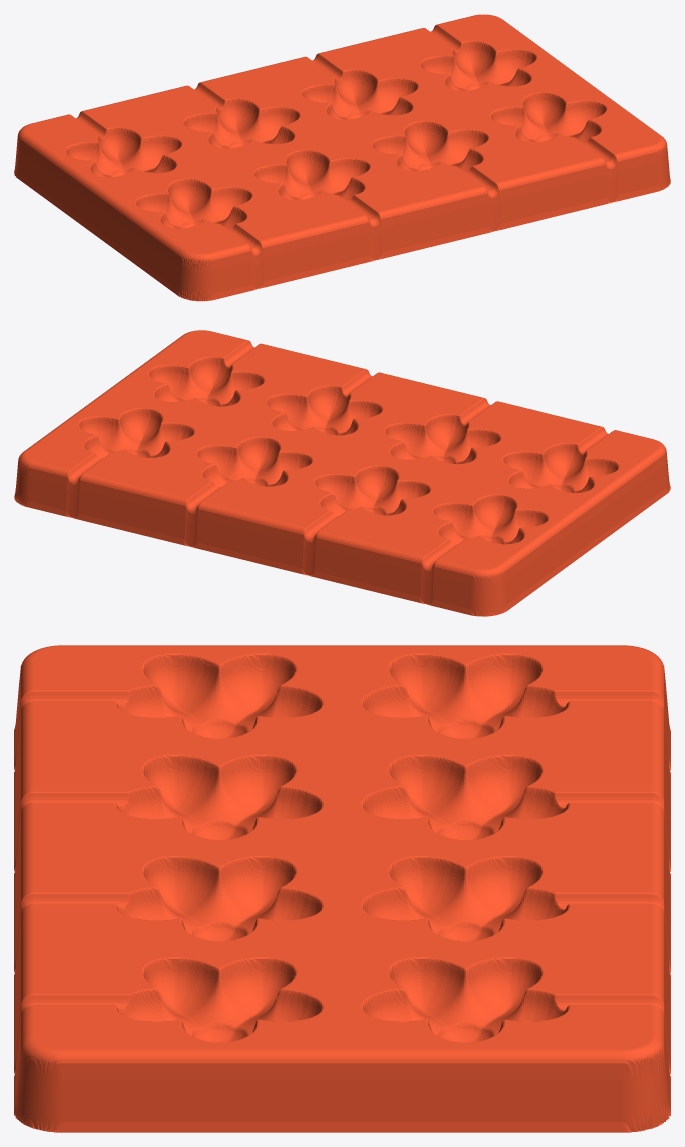
File: mold.glb
3 renders of one model, top to bottom at view 1: azimuth 30°, elevation 25°; view 2: azimuth 150°, elevation 25°; view 3: azimuth 270°, elevation 25°, orthographic. The views are drawn at different scales.
Visible parts, largest first — view 1: geometry_0; view 2: geometry_0; view 3: geometry_0.
Boxes of the visible parts, x1,y1,x2,y2 form: geometry_0: [14, 14, 670, 301]; geometry_0: [14, 330, 670, 616]; geometry_0: [14, 645, 670, 1132].
Bounding box in the file's own units: 0.1856 × 0.0155 × 0.1229.
